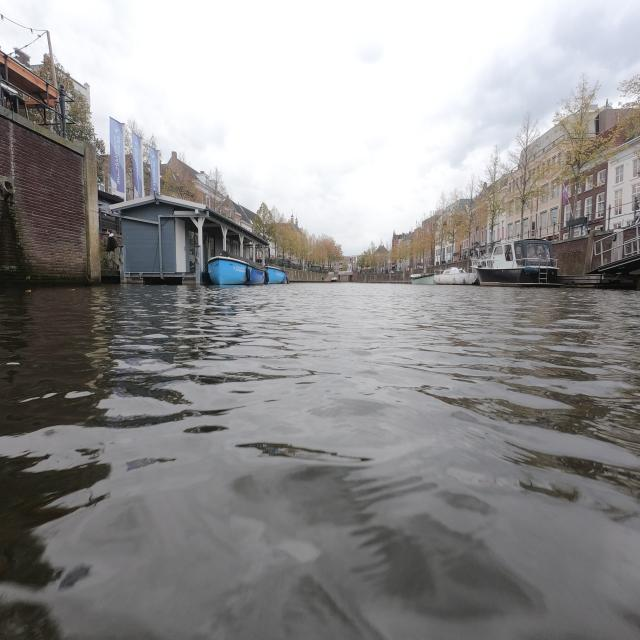boat: (411, 238, 559, 285), (206, 256, 287, 285)
dock: (557, 270, 640, 289)
wall: (0, 106, 99, 284)
water: (0, 284, 640, 639)
